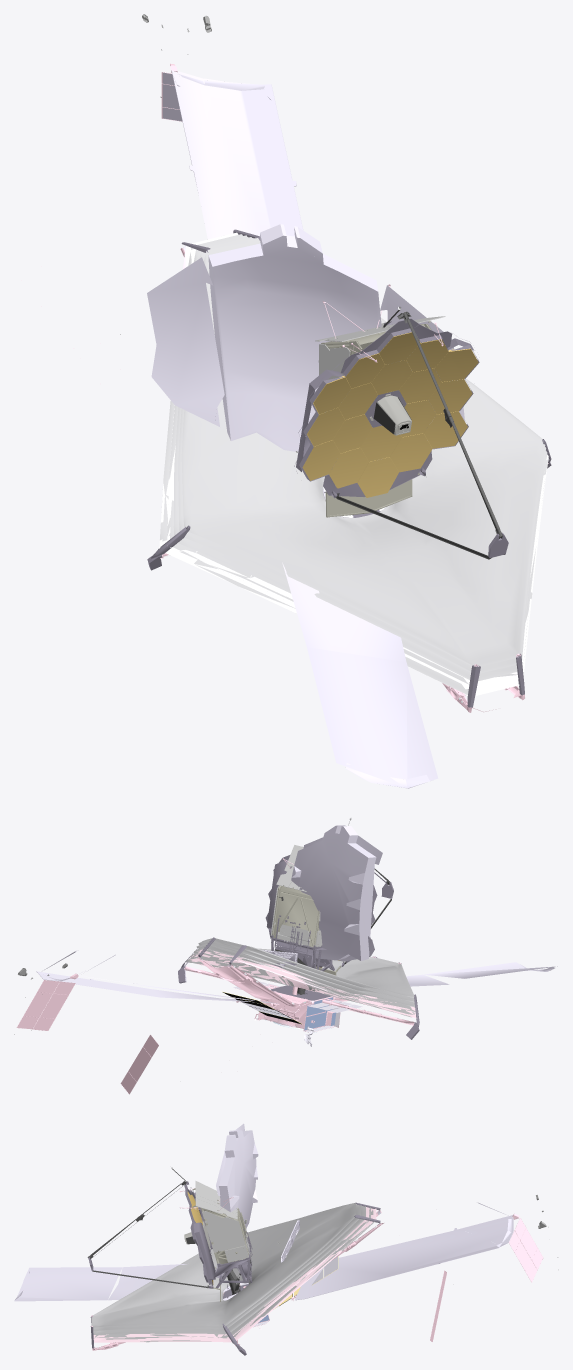
Rendered from thumb.glb.
3 renders of one model, top to bottom at view 1: azimuth 30°, elevation 25°; view 2: azimuth 150°, elevation 25°; view 3: azimuth 270°, elevation 25°, orthographic. The views are drawn at different scales.
Visible parts, largest first — view 1: James_Webb_Space_Telescope:aft_flap_assy1, James_Webb_Space_Telescope:poly_p2_l1, James_Webb_Space_Telescope:mirror10, James_Webb_Space_Telescope:asm_corecovrs_hr_car_v002:corcvr, James_Webb_Space_Telescope:poly_p2_l1_bot, James_Webb_Space_Telescope:basecylinder2, James_Webb_Space_Telescope:stray_h1_brace1, James_Webb_Space_Telescope:low_rads; view 2: James_Webb_Space_Telescope:aft_flap_assy1, James_Webb_Space_Telescope:poly_p2_l1, James_Webb_Space_Telescope:asm_corecovrs_hr_car_v002:corcvr, James_Webb_Space_Telescope:poly_p2_l1_bot, James_Webb_Space_Telescope:midstr_t_wrap, James_Webb_Space_Telescope:bus_body, James_Webb_Space_Telescope:aft_ups_asssy, James_Webb_Space_Telescope:low_rads, James_Webb_Space_Telescope:bus_rad1_pan, James_Webb_Space_Telescope:mboom1_base_boom, James_Webb_Space_Telescope:battery_ssm, James_Webb_Space_Telescope:slrpnl1 (+2 smaller); view 3: James_Webb_Space_Telescope:poly_p2_l1, James_Webb_Space_Telescope:aft_flap_assy1, James_Webb_Space_Telescope:low_rads, James_Webb_Space_Telescope:poly_p2_l1_bot, James_Webb_Space_Telescope:asm_corecovrs_hr_car_v002:corcvr, James_Webb_Space_Telescope:basecylinder2, James_Webb_Space_Telescope:midstr_t_plate1, James_Webb_Space_Telescope:slrpnl1.
Part boxes in pixels (bbox=[...]): James_Webb_Space_Telescope:aft_flap_assy1: bbox=[21, 63, 464, 788]; James_Webb_Space_Telescope:poly_p2_l1: bbox=[160, 234, 548, 694]; James_Webb_Space_Telescope:mirror10: bbox=[302, 332, 478, 497]; James_Webb_Space_Telescope:asm_corecovrs_hr_car_v002:corcvr: bbox=[181, 229, 524, 707]; James_Webb_Space_Telescope:poly_p2_l1_bot: bbox=[159, 232, 548, 695]; James_Webb_Space_Telescope:basecylinder2: bbox=[337, 319, 505, 559]; James_Webb_Space_Telescope:stray_h1_brace1: bbox=[325, 473, 419, 517]; James_Webb_Space_Telescope:low_rads: bbox=[315, 316, 445, 412]; James_Webb_Space_Telescope:aft_flap_assy1: bbox=[16, 825, 557, 1094]; James_Webb_Space_Telescope:poly_p2_l1: bbox=[186, 938, 415, 1017]; James_Webb_Space_Telescope:asm_corecovrs_hr_car_v002:corcvr: bbox=[198, 855, 401, 971]; James_Webb_Space_Telescope:poly_p2_l1_bot: bbox=[189, 949, 416, 1018]; James_Webb_Space_Telescope:midstr_t_wrap: bbox=[273, 885, 319, 947]; James_Webb_Space_Telescope:bus_body: bbox=[258, 985, 334, 1030]; James_Webb_Space_Telescope:aft_ups_asssy: bbox=[197, 957, 299, 1007]; James_Webb_Space_Telescope:low_rads: bbox=[270, 845, 322, 946]; James_Webb_Space_Telescope:bus_rad1_pan: bbox=[233, 981, 362, 1046]; James_Webb_Space_Telescope:mboom1_base_boom: bbox=[185, 966, 414, 1025]; James_Webb_Space_Telescope:battery_ssm: bbox=[304, 997, 336, 1030]; James_Webb_Space_Telescope:slrpnl1: bbox=[222, 991, 302, 1024]; James_Webb_Space_Telescope:poly_p2_l1: bbox=[91, 1203, 374, 1342]; James_Webb_Space_Telescope:aft_flap_assy1: bbox=[14, 1123, 543, 1341]; James_Webb_Space_Telescope:low_rads: bbox=[195, 1181, 248, 1262]; James_Webb_Space_Telescope:poly_p2_l1_bot: bbox=[93, 1207, 376, 1342]; James_Webb_Space_Telescope:asm_corecovrs_hr_car_v002:corcvr: bbox=[88, 1181, 380, 1348]; James_Webb_Space_Telescope:basecylinder2: bbox=[90, 1183, 240, 1294]; James_Webb_Space_Telescope:midstr_t_plate1: bbox=[192, 1188, 248, 1263]; James_Webb_Space_Telescope:slrpnl1: bbox=[273, 1256, 338, 1309].
Size of the model in its own units: 15.62 by 14 by 34.67.
